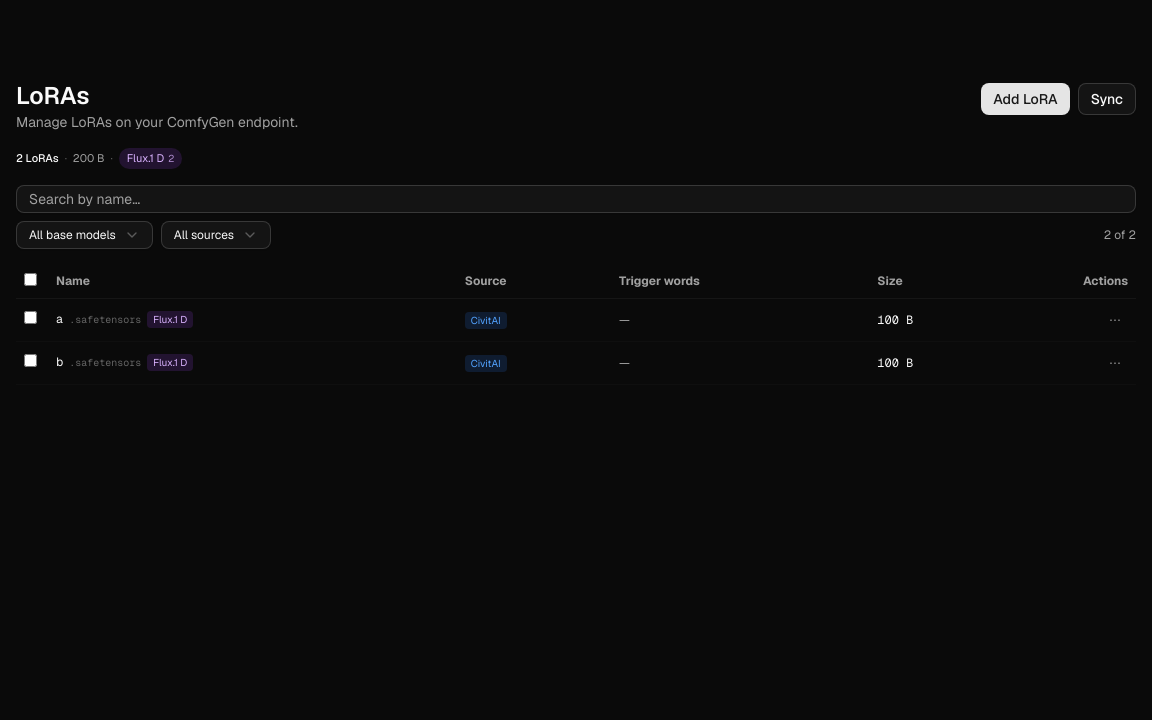
Test: LorasPageBody — bulk delete (AlertDialog) › partial failure surfaces the failed row in error banner; succeeded rows leave UI
What coordinates should you click on to do the following:
click the checkbox named "Select a.safetensors"
I would click on:
 (30, 318)
Its box is [24, 311, 37, 324].
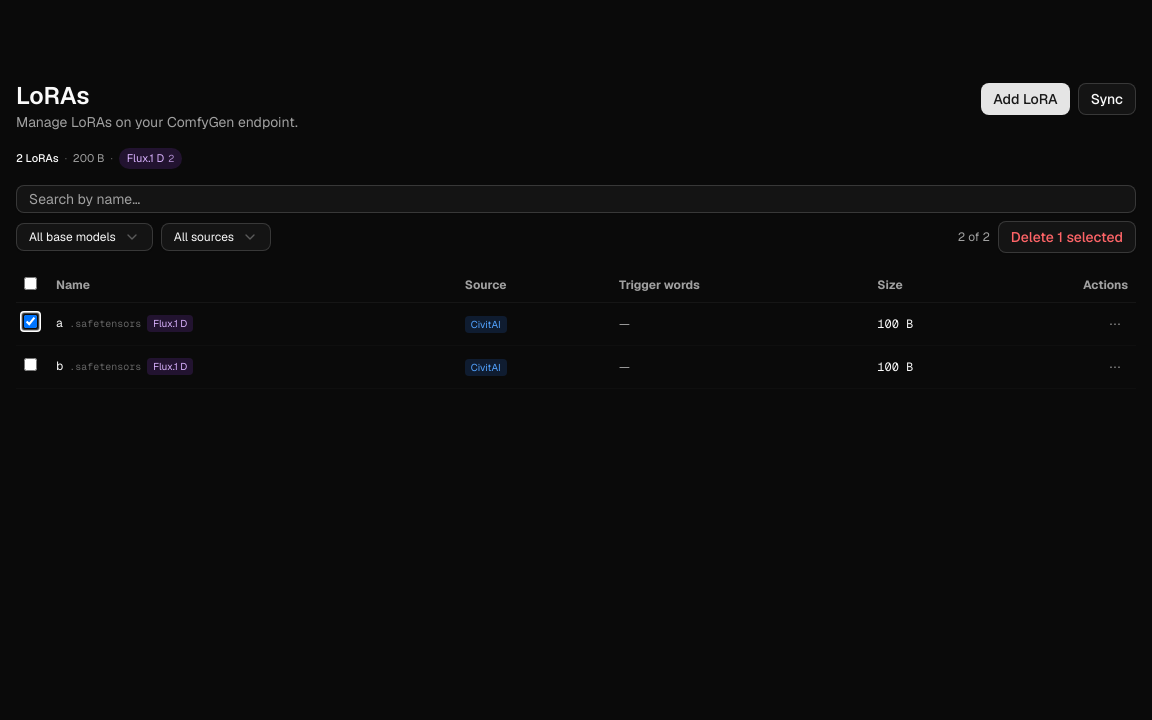
What coordinates should you click on to do the following:
click the checkbox named "Select b.safetensors"
I would click on:
 (30, 364)
Its box is [24, 358, 37, 371].
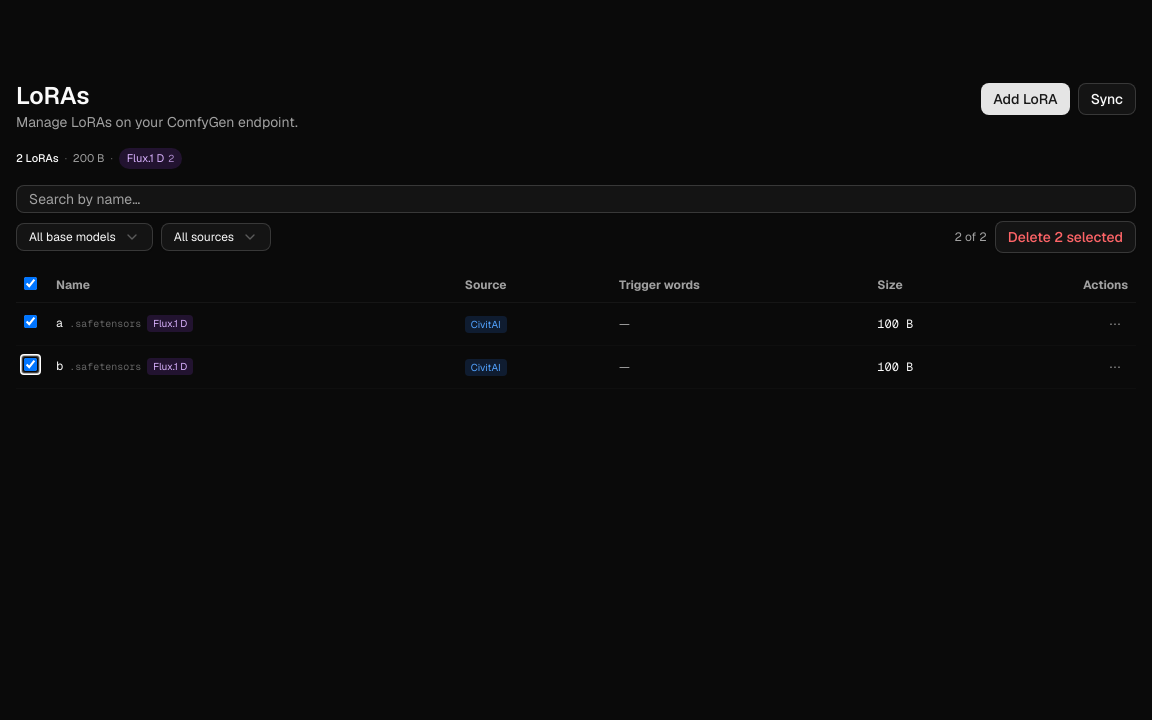
What coordinates should you click on to do the following:
click the button "Delete 2 selected"
I would click on:
 (1065, 236)
Its box is [995, 220, 1136, 252].
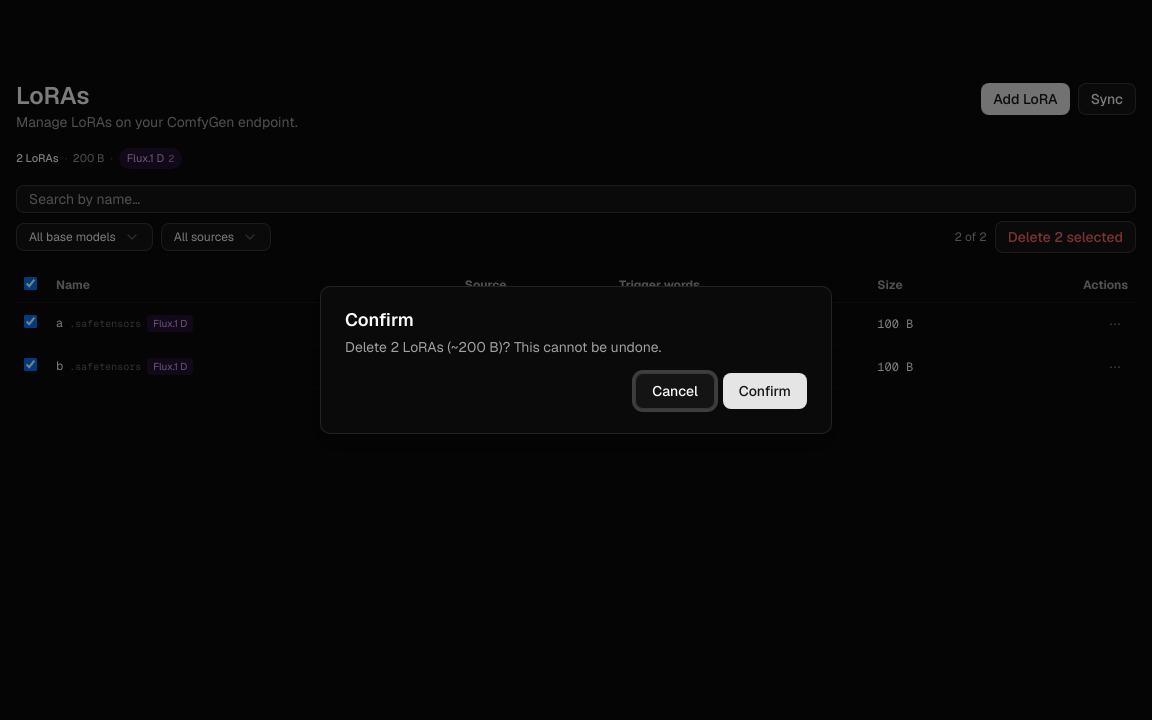
What coordinates should you click on to do the following:
click the button "Confirm"
I would click on:
 (765, 391)
Its box is [723, 373, 807, 409].
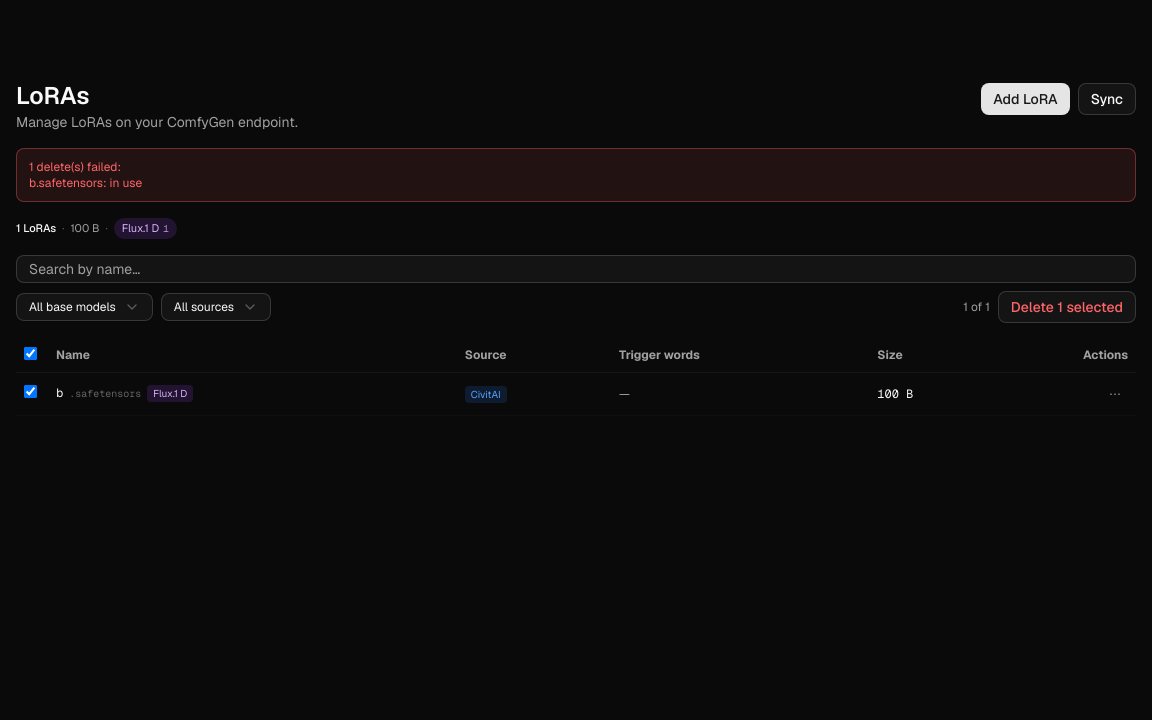
Expected: the row named "Select b.safetensors" is shown, [16, 372, 1136, 415]
Expected: the text "1 delete(s) failed: b.safetensors: in use" is shown, [29, 159, 142, 191]
